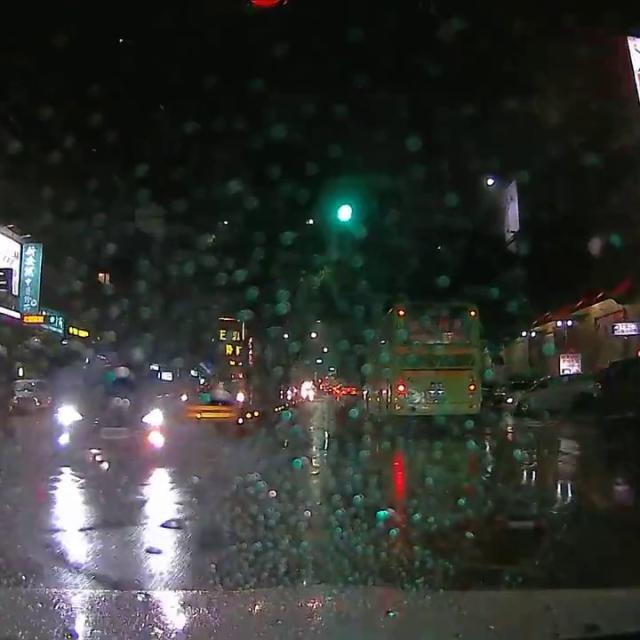Car: (38, 364, 173, 464), (518, 371, 597, 415), (4, 374, 49, 416)
